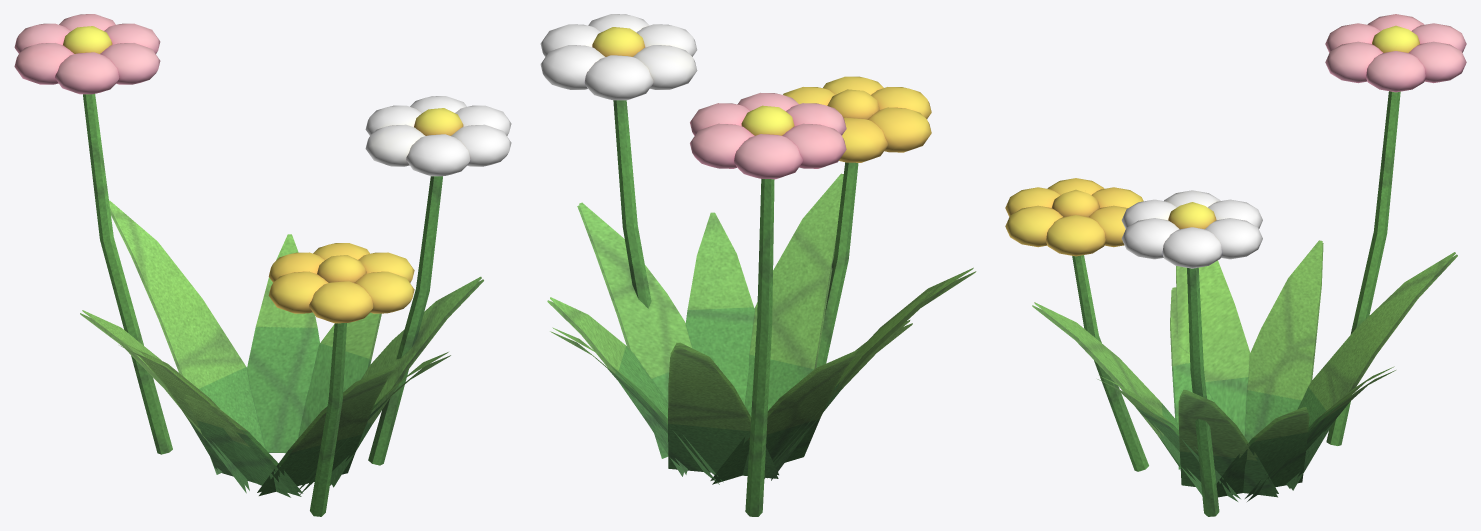
Rendered from WM_Flower_Cluster.fbx.
3 renders of one model, left to right at view 1: azimuth 30°, elevation 25°; view 2: azimuth 150°, elevation 25°; view 3: azimuth 270°, elevation 25°, orthographic. The views are drawn at different scales.
Parts seen in each view (by area): view 1: WM_Flower_Cluster_LOD0; view 2: WM_Flower_Cluster_LOD0; view 3: WM_Flower_Cluster_LOD0.
Boxes of the visible parts, left/top/right/bottom form: WM_Flower_Cluster_LOD0: left=14, top=14, right=511, bottom=516; WM_Flower_Cluster_LOD0: left=540, top=14, right=976, bottom=516; WM_Flower_Cluster_LOD0: left=1005, top=14, right=1466, bottom=516.
Size of what is drawn, in the model's own units: 0.4504 by 0.4507 by 0.4759.
